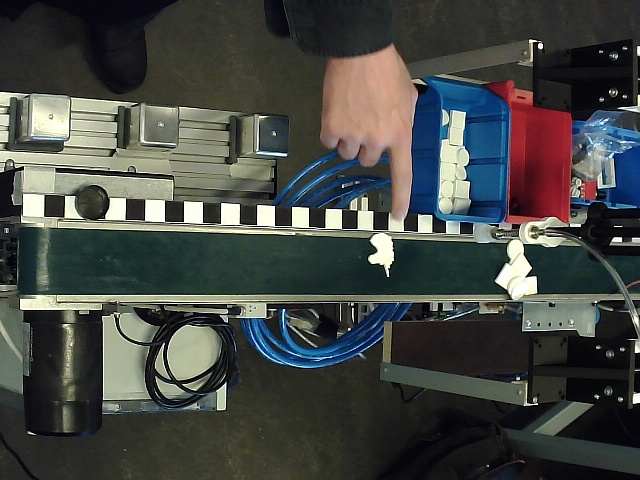unicorn: (367, 232, 396, 279)
